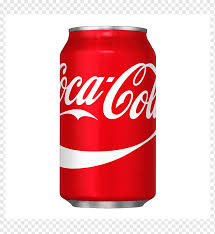can: (54, 20, 160, 213)
